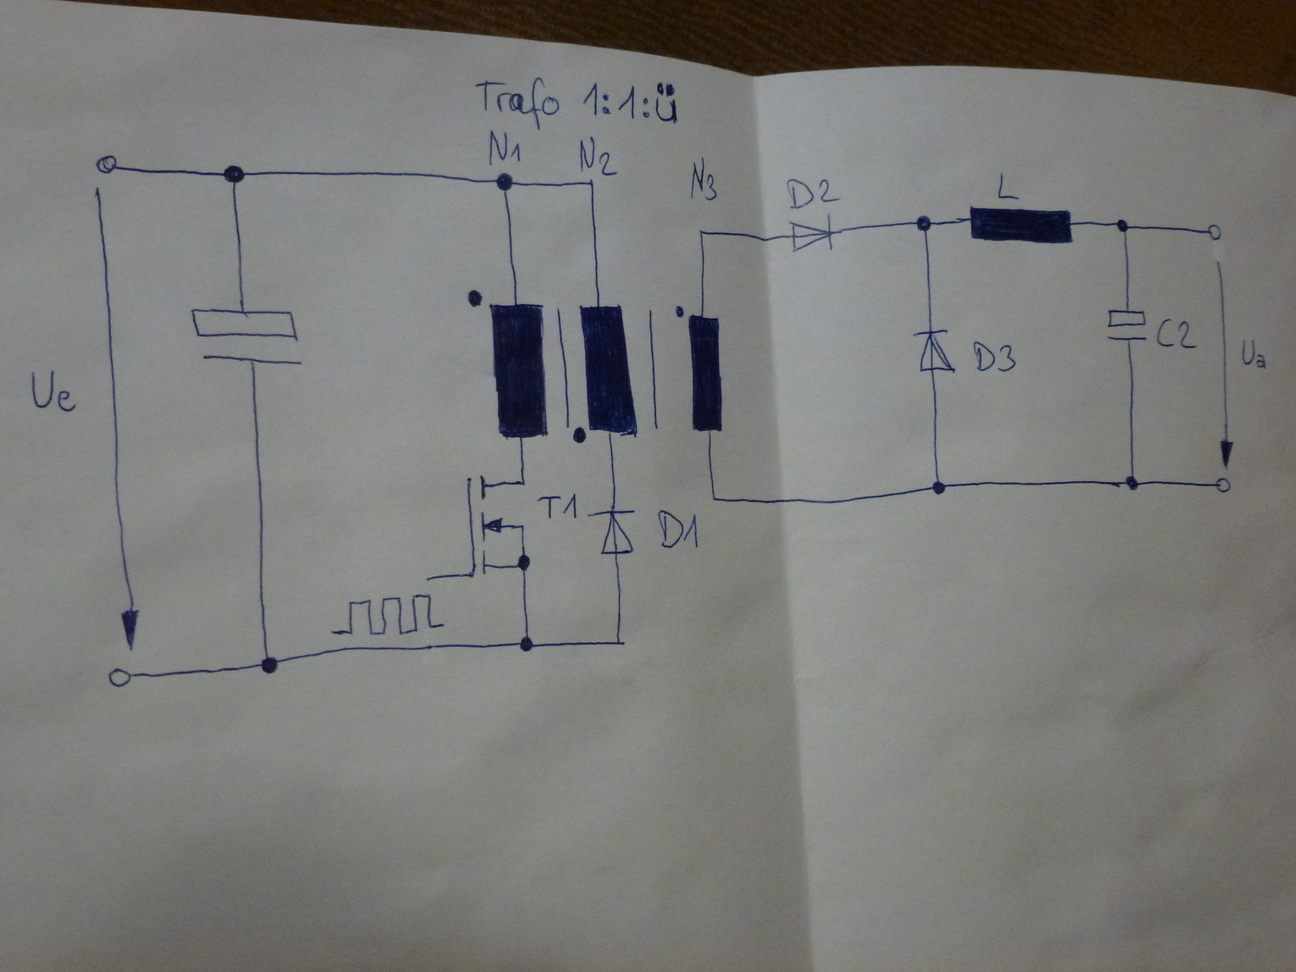capacitor.polarized: (185, 303, 309, 370), (1104, 304, 1150, 348)
diode: (584, 502, 636, 558), (787, 212, 843, 254), (911, 324, 956, 374)
inductor: (965, 203, 1077, 248)
junction: (218, 158, 251, 189), (255, 651, 282, 677), (912, 210, 937, 237), (493, 171, 517, 194), (1121, 472, 1143, 493), (1113, 214, 1133, 236), (929, 477, 947, 496), (517, 634, 535, 654), (695, 226, 709, 241), (707, 490, 721, 504), (613, 636, 625, 650), (586, 176, 597, 188)
terminal: (104, 664, 139, 693), (92, 151, 123, 181), (1204, 220, 1224, 244), (1214, 473, 1233, 494), (422, 573, 433, 583)
text: (464, 74, 687, 131), (27, 368, 78, 414), (653, 507, 702, 551), (782, 175, 841, 210), (968, 337, 1017, 373), (578, 137, 620, 177), (686, 156, 721, 203), (484, 126, 524, 165), (1154, 315, 1197, 352), (538, 491, 581, 522), (992, 169, 1029, 204), (1238, 335, 1268, 369)
transformer: (460, 285, 730, 449)
transistor: (462, 469, 536, 581)
